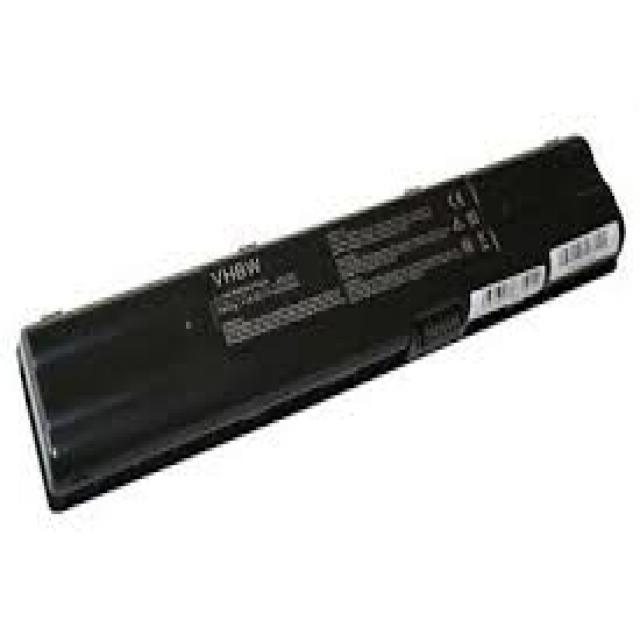battery: (17, 130, 620, 512)
